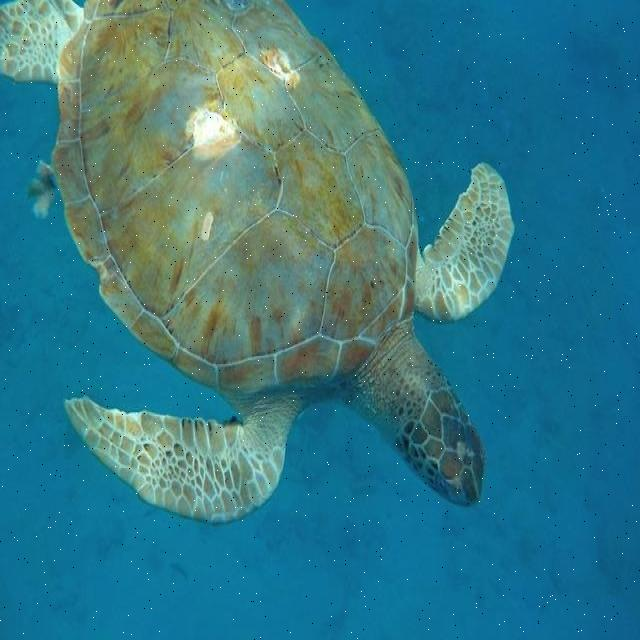fish: (0, 0, 516, 524)
